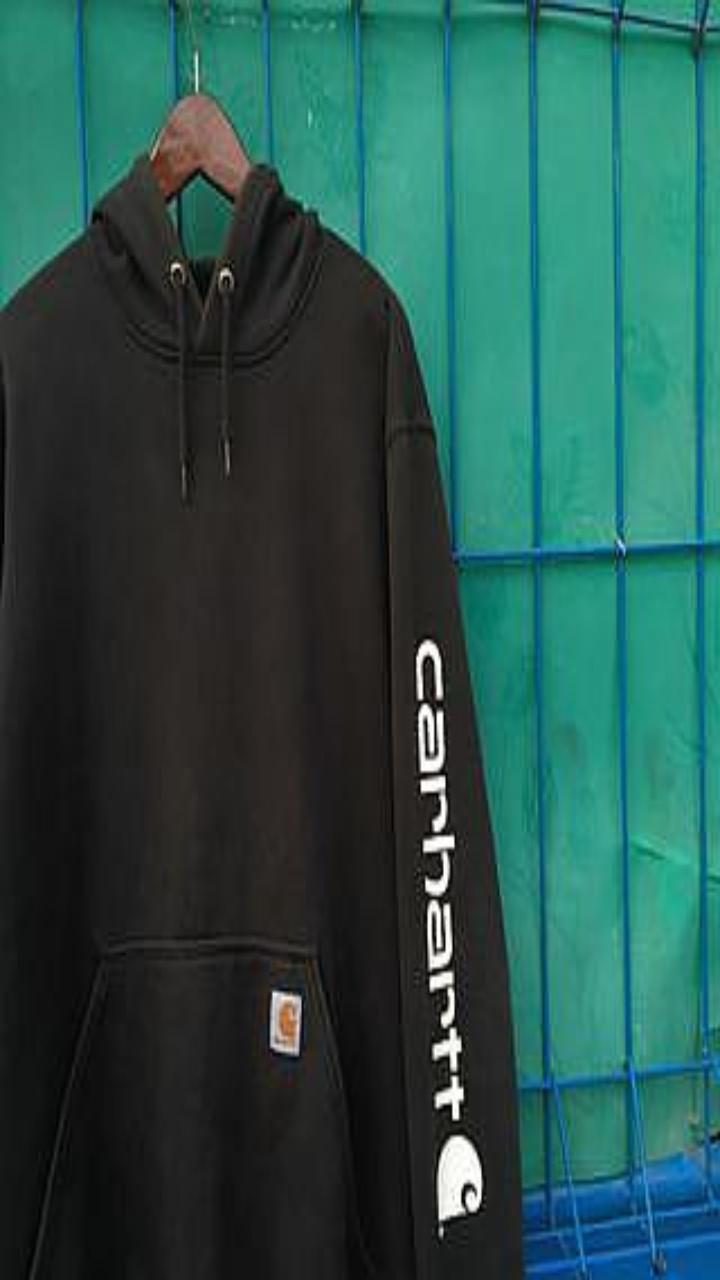Hoodie: (0, 153, 521, 1279)
